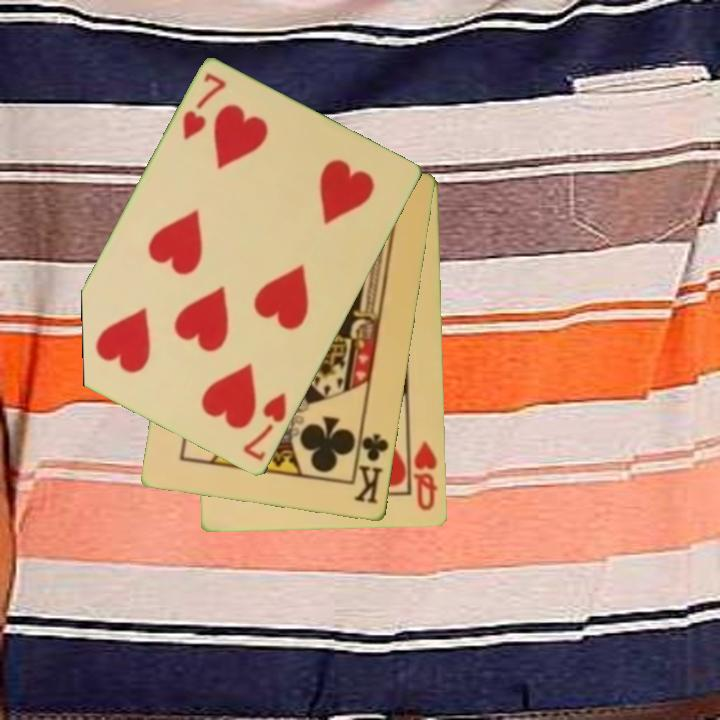7h: (239, 389, 290, 465), (179, 70, 230, 144)
Kc: (351, 425, 392, 508)
Qh: (410, 438, 441, 513)
